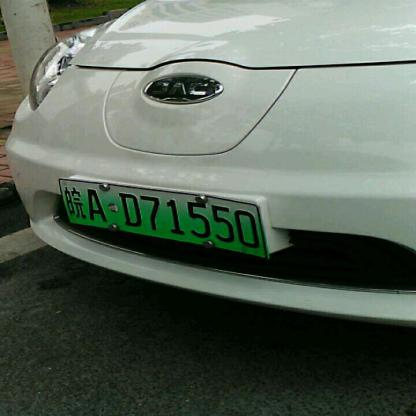lp: (58, 178, 268, 259)
